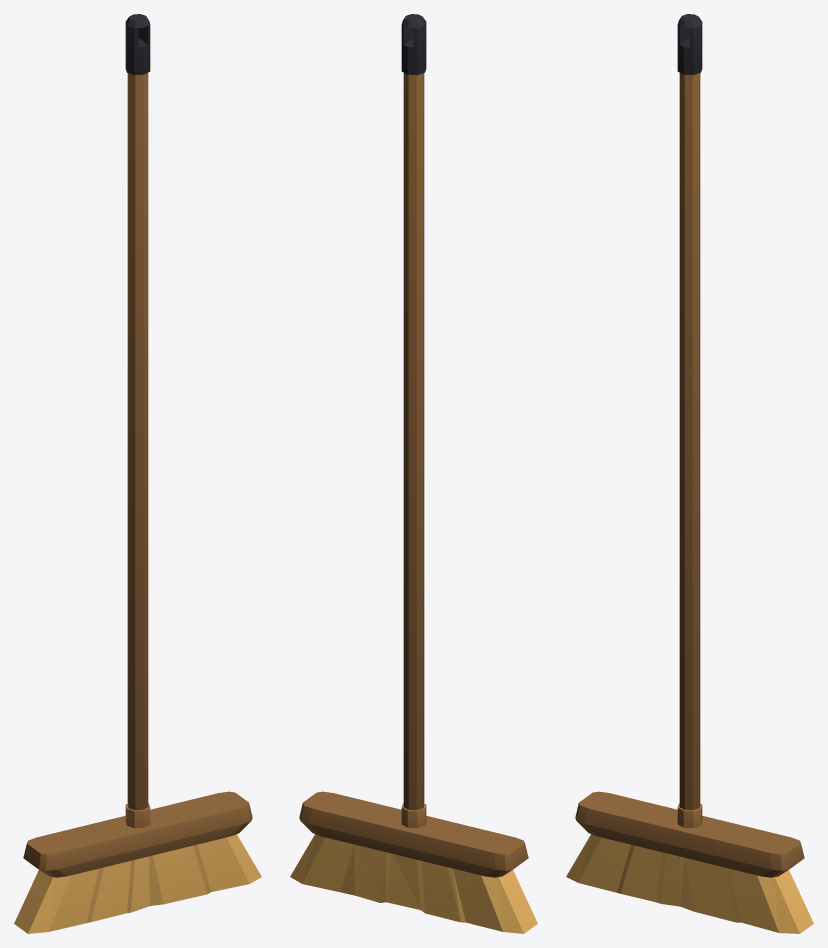
The model's file is Tool_Broom_03.obj.
3 renders of one model, left to right at view 1: azimuth 30°, elevation 25°; view 2: azimuth 150°, elevation 25°; view 3: azimuth 330°, elevation 25°, orthographic.
Parts seen in each view (by area): view 1: Tool_Broom_03; view 2: Tool_Broom_03; view 3: Tool_Broom_03.
Part boxes in pixels (<box>): Tool_Broom_03: <box>14,14,261,933</box>; Tool_Broom_03: <box>290,14,537,933</box>; Tool_Broom_03: <box>566,14,813,933</box>.
Size of the model in its own units: 0.474 by 1.71 by 0.0842.
1 material, 1 textured.
